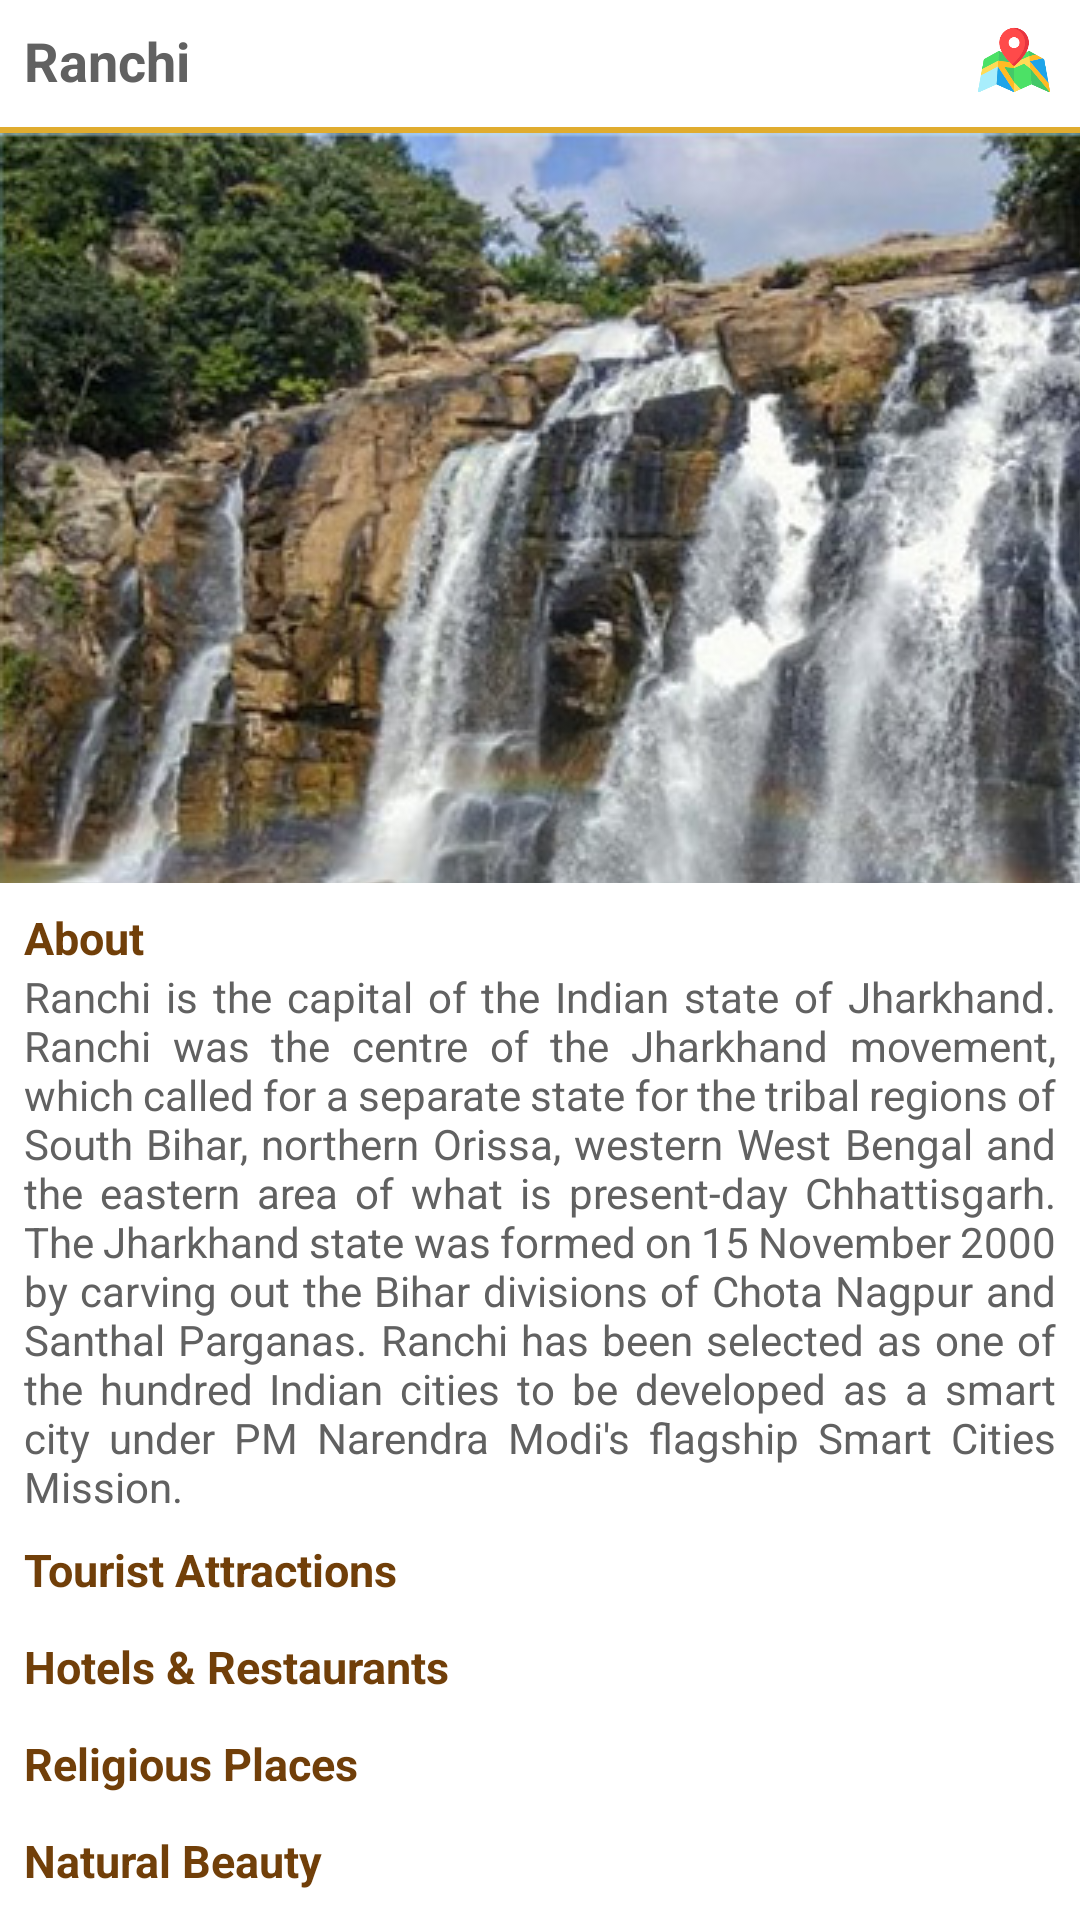

Locate icon controls on the screen. Image size 1080 × 1920, boxes as Rect(x1, y1, x2, y2).
map: Rect(978, 28, 1050, 92)
